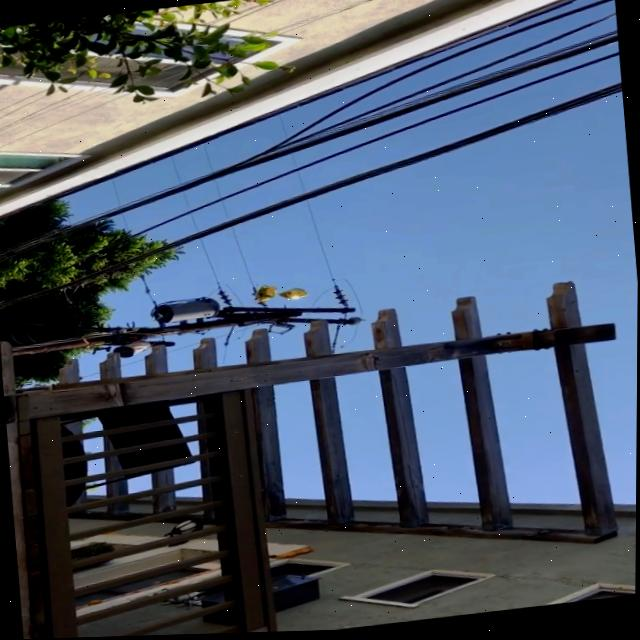obstruction: (255, 287, 308, 306)
poles: (14, 308, 361, 358)
wires: (307, 202, 350, 309), (233, 229, 269, 309), (201, 241, 242, 308), (138, 273, 157, 309), (108, 181, 121, 205), (331, 327, 343, 352), (120, 214, 132, 235), (279, 117, 289, 141), (295, 174, 307, 193), (220, 203, 230, 221), (171, 159, 180, 178), (205, 149, 211, 173), (190, 216, 198, 232), (223, 333, 230, 350), (214, 183, 221, 197), (288, 156, 296, 168), (183, 196, 189, 207)
